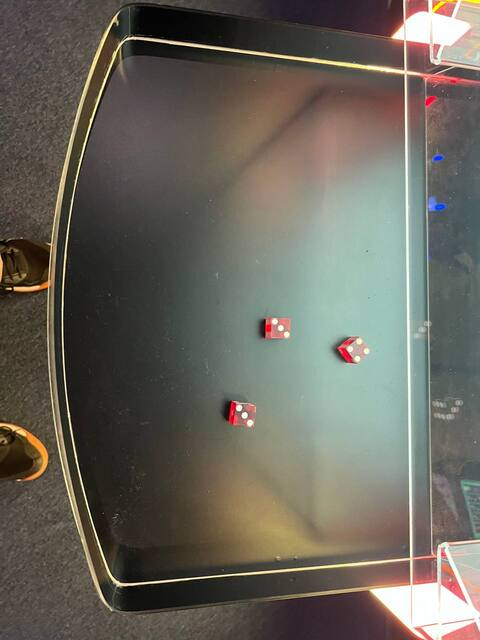four: (344, 333, 373, 366)
three: (264, 314, 296, 342), (229, 401, 261, 429)
